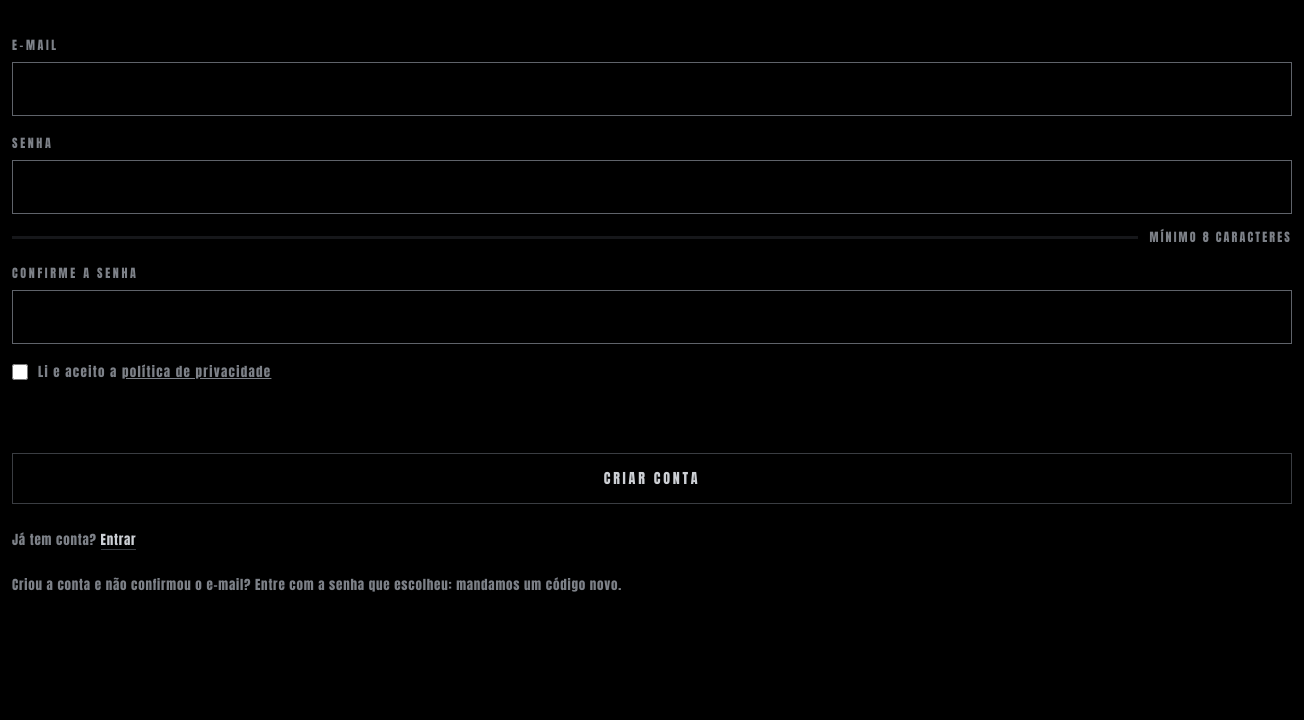
Test case: cadastro (#130) › errar a confirmacao mantem e-mail e o aceite marcado
This screenshot has width=1304, height=720.
Type "maria@exemplo.com" into the field labelled "E-mail" at coordinates (652, 89), box left=12, top=62, right=1292, bottom=116
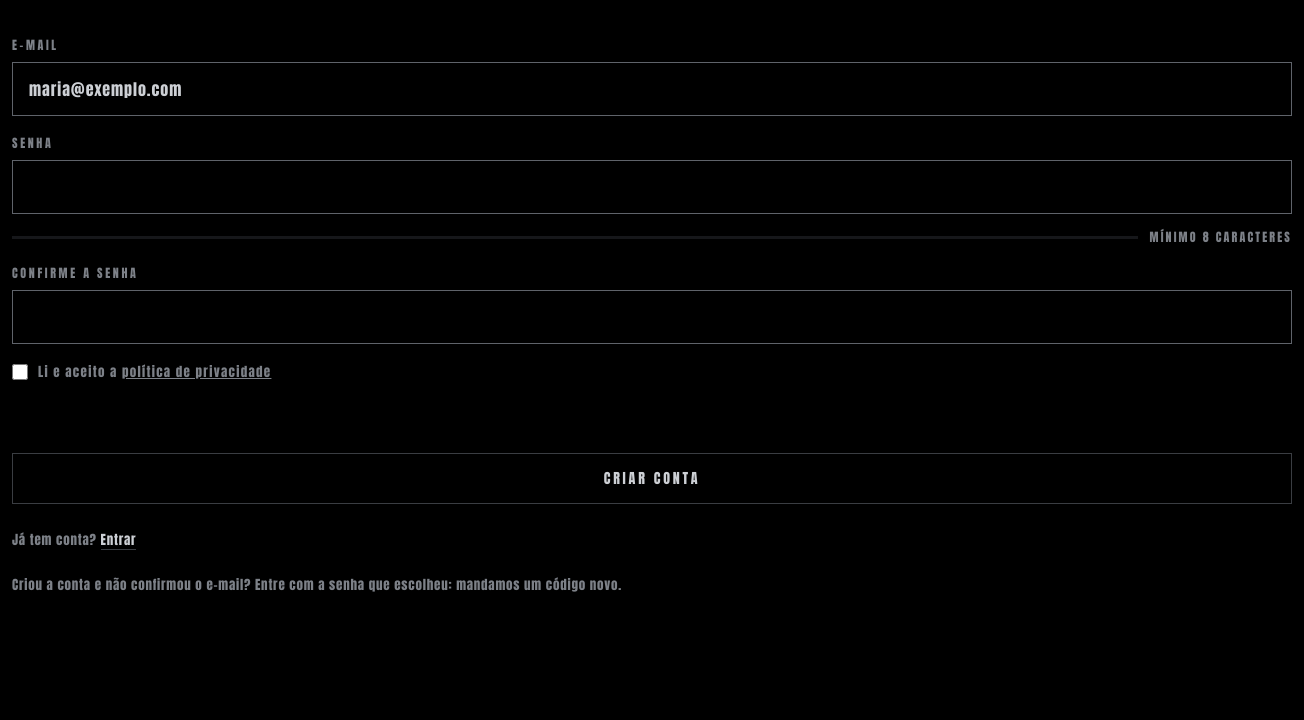
Type "senha-longa-de-teste" into the password field labelled "Senha" at coordinates (652, 187), box left=12, top=160, right=1292, bottom=214
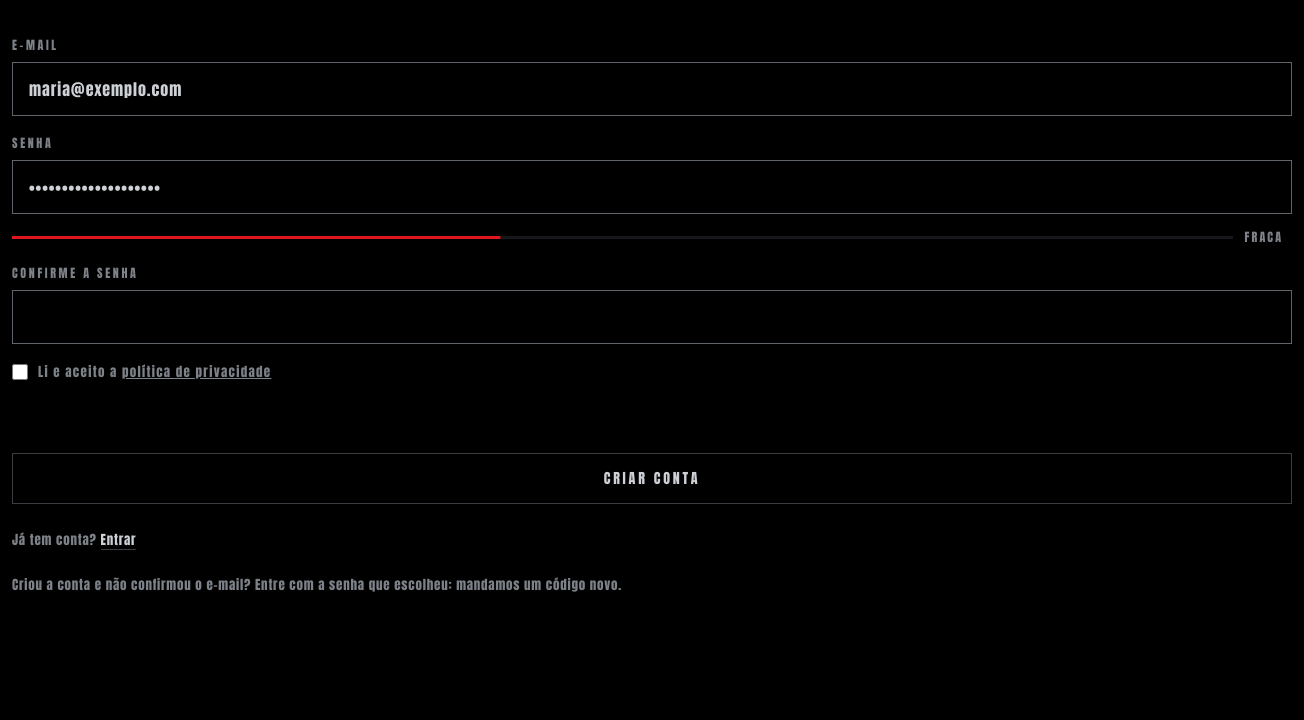
Type "outra-coisa" into the password field labelled "Confirme a senha" at coordinates (652, 317), box left=12, top=290, right=1292, bottom=344
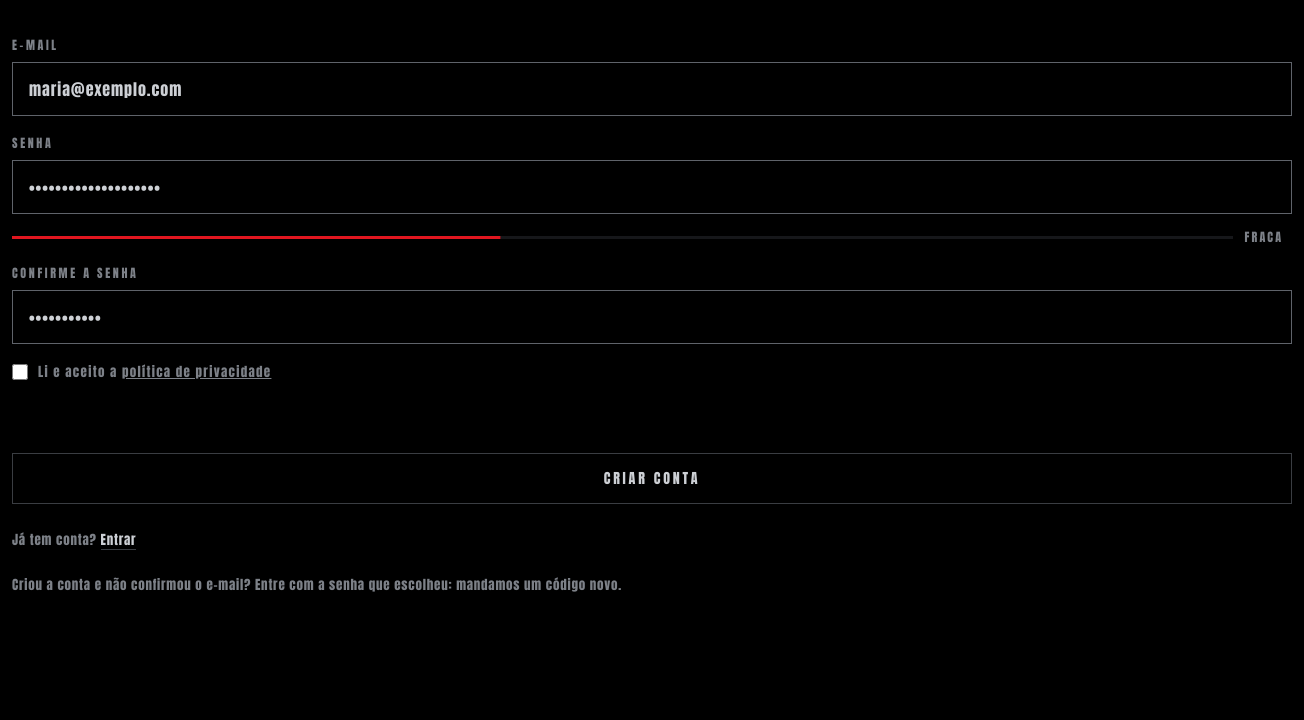
Click the checkbox labelled "Li e aceito a política de privacidade" at coordinates (20, 372), box left=12, top=364, right=28, bottom=380
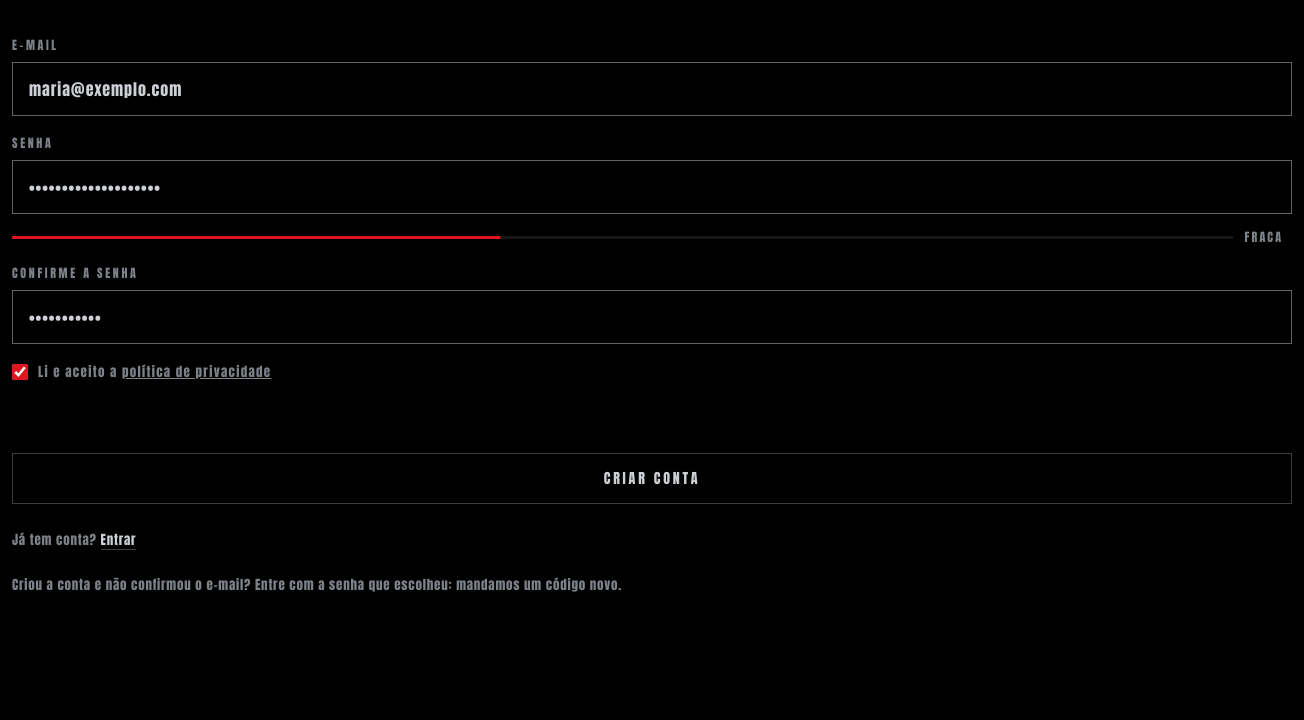
Submit the form
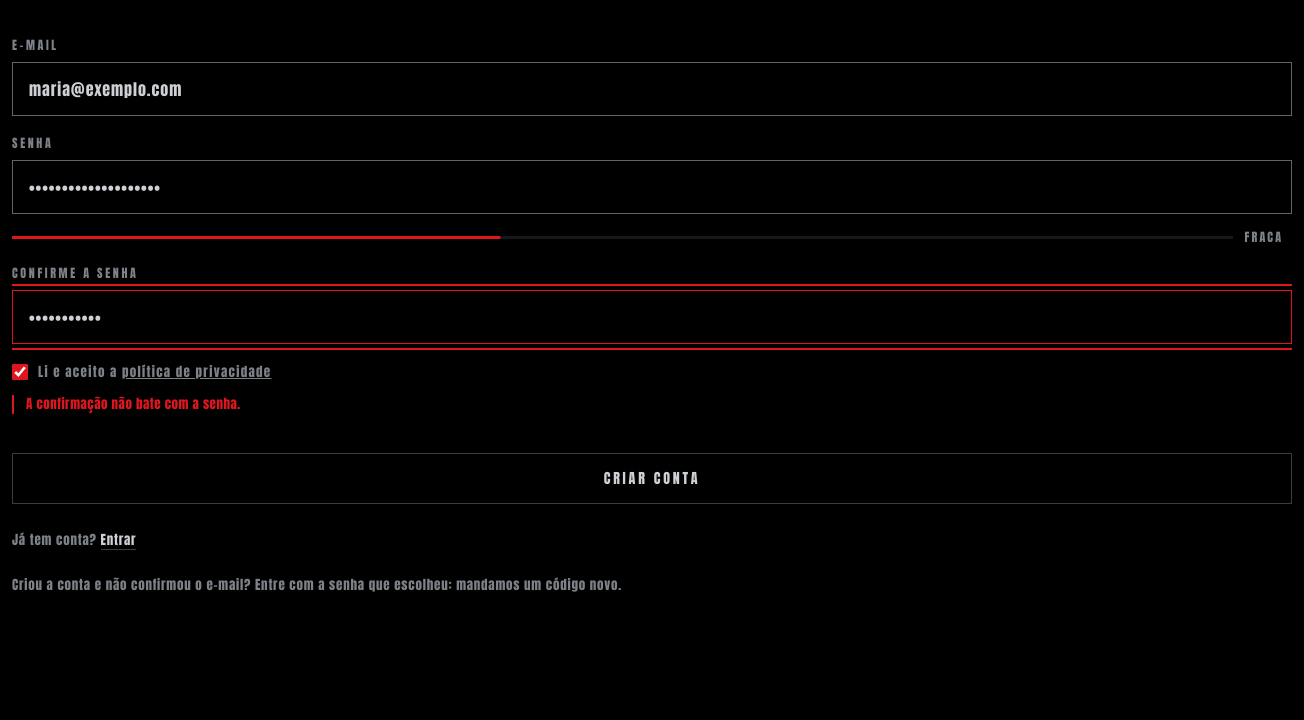
Expected: the checkbox labelled "Li e aceito a política de privacidade" is checked, left=12, top=364, right=28, bottom=380
Expected: the message "A confirmação não bate com a senha." is shown, left=12, top=395, right=1292, bottom=414
